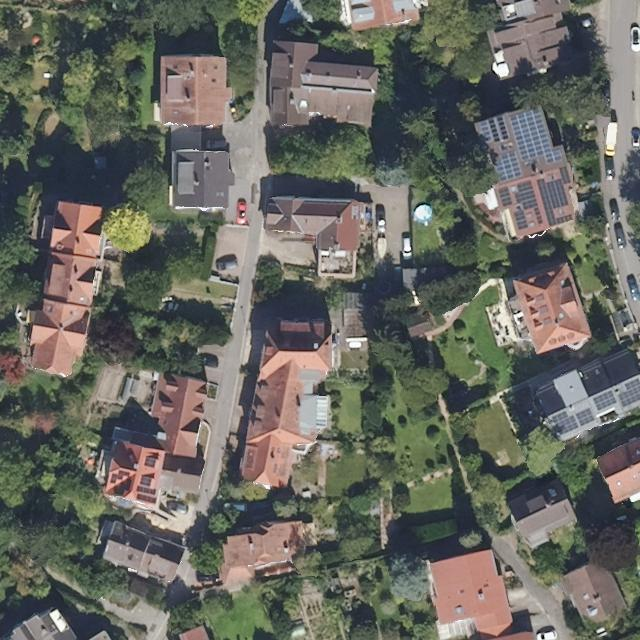PV: (509, 106, 563, 166), (536, 165, 575, 228), (513, 179, 544, 226), (493, 149, 524, 184), (479, 115, 510, 145), (550, 409, 579, 436), (617, 377, 639, 408), (592, 389, 618, 412), (575, 407, 595, 427), (112, 479, 133, 497), (497, 185, 513, 208), (109, 470, 131, 485), (514, 209, 529, 231), (136, 493, 158, 505), (136, 485, 157, 496)
